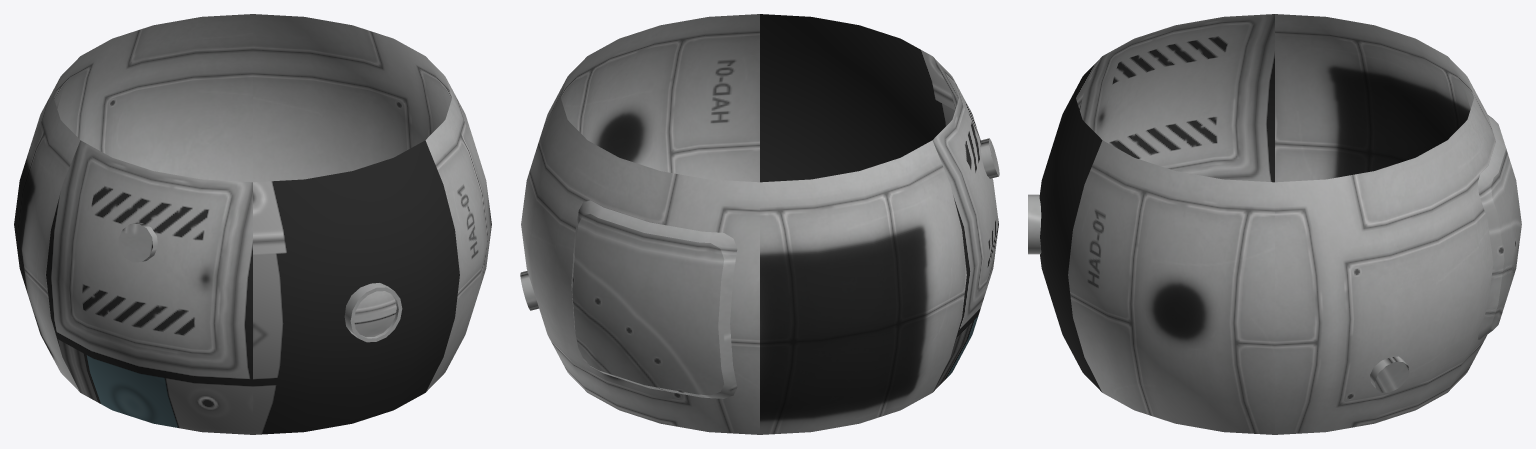
File: hadar_crew_s1_1.obj
3 renders of one model, left to right at view 1: azimuth 30°, elevation 25°; view 2: azimuth 150°, elevation 25°; view 3: azimuth 270°, elevation 25°, orthographic.
Visible parts, largest first — view 1: mesh, windows; view 2: mesh; view 3: mesh.
Boxes of the visible parts, bbox=[...] form: mesh: bbox=[14, 14, 491, 434]; windows: bbox=[354, 291, 396, 337]; mesh: bbox=[520, 14, 999, 434]; mesh: bbox=[1028, 14, 1521, 434].
Size of the model in its own units: 1.5 by 0.875 by 1.55.
